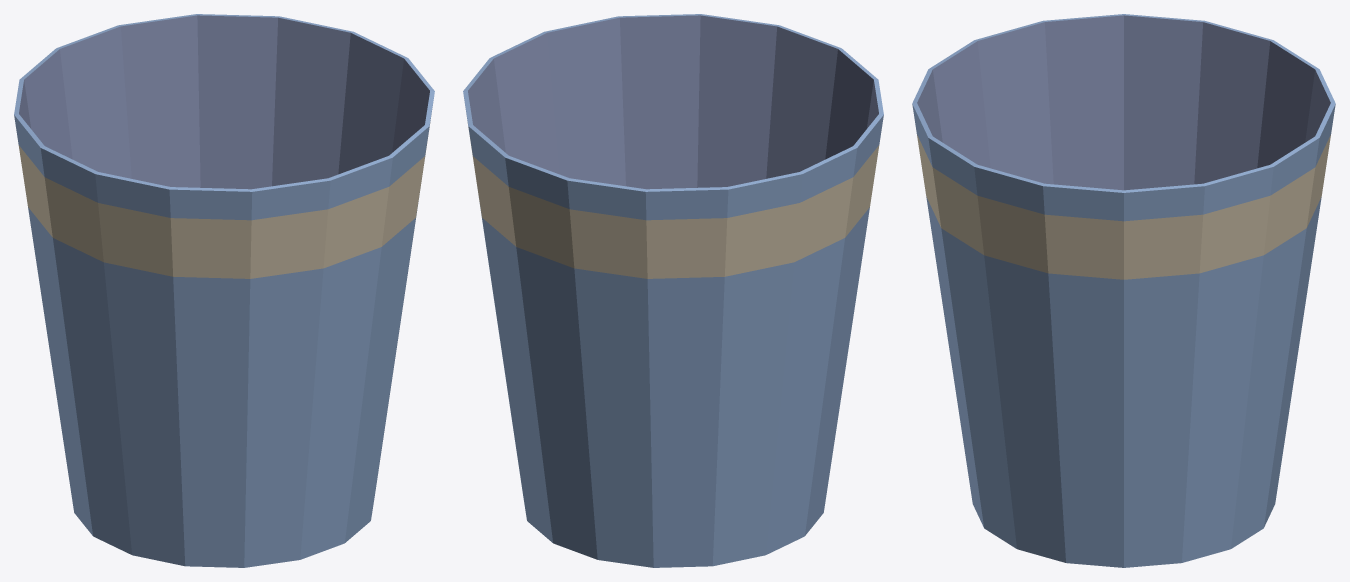
Rendered from Trash_can.fbx.
The picture shows the model from 3 angles, left to right: view 1: azimuth 30°, elevation 25°; view 2: azimuth 150°, elevation 25°; view 3: azimuth 270°, elevation 25°; orthographic projection.
Visible parts, largest first — view 1: Circle.065; view 2: Circle.065; view 3: Circle.065.
Boxes of the visible parts, x1,y1,x2,y2 form: Circle.065: (14, 14, 434, 567); Circle.065: (463, 14, 883, 567); Circle.065: (912, 14, 1335, 567).
Size of the model in its own units: 0.8871 by 0.8871 by 0.9271.
